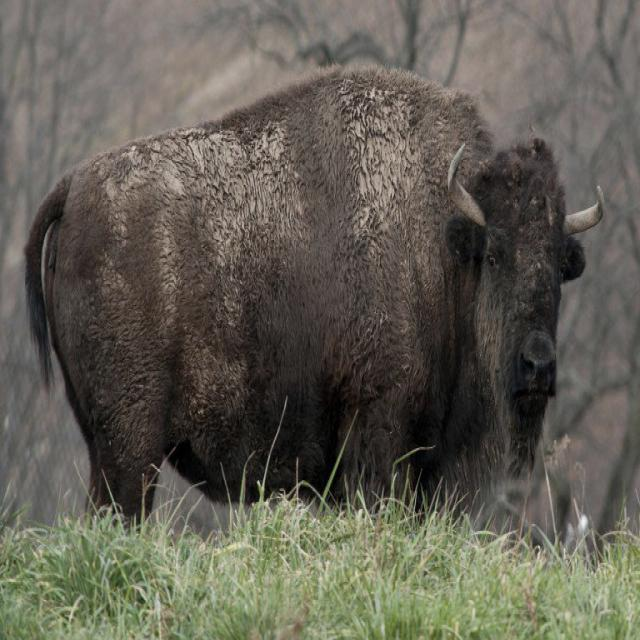bison: (26, 66, 602, 521)
